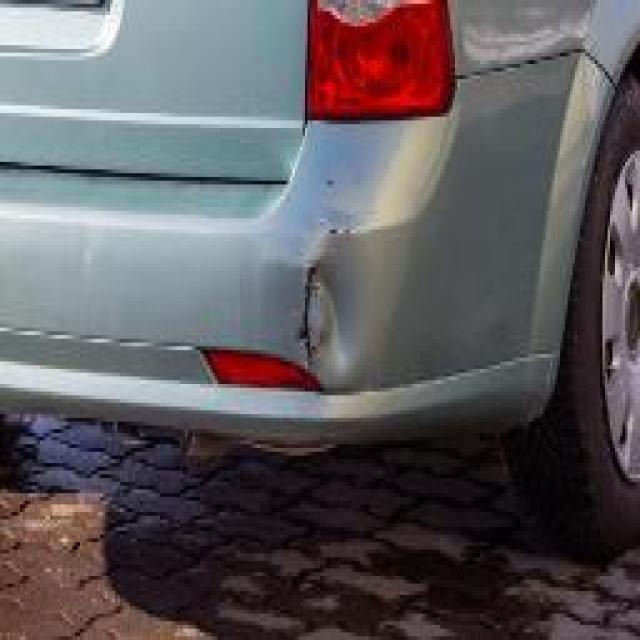Bumper: (255, 203, 398, 403)
